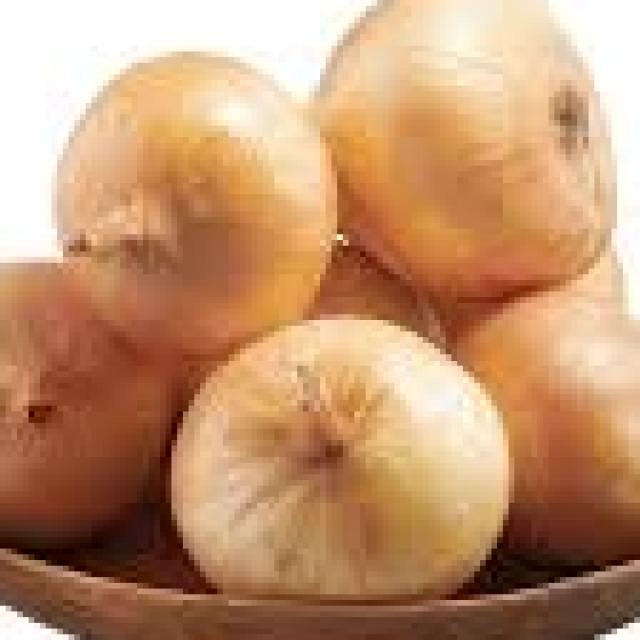onion: (360, 0, 617, 269), (217, 343, 465, 589), (74, 70, 284, 310), (514, 286, 640, 537), (0, 320, 109, 469)
